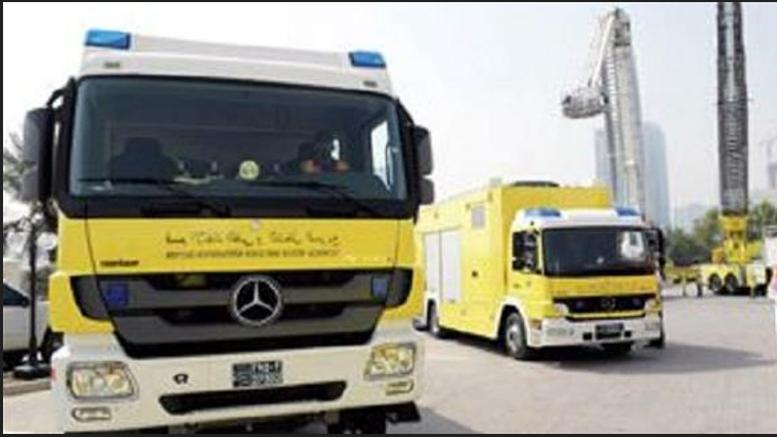firetruck_off: (21, 27, 435, 437), (435, 170, 667, 356)
